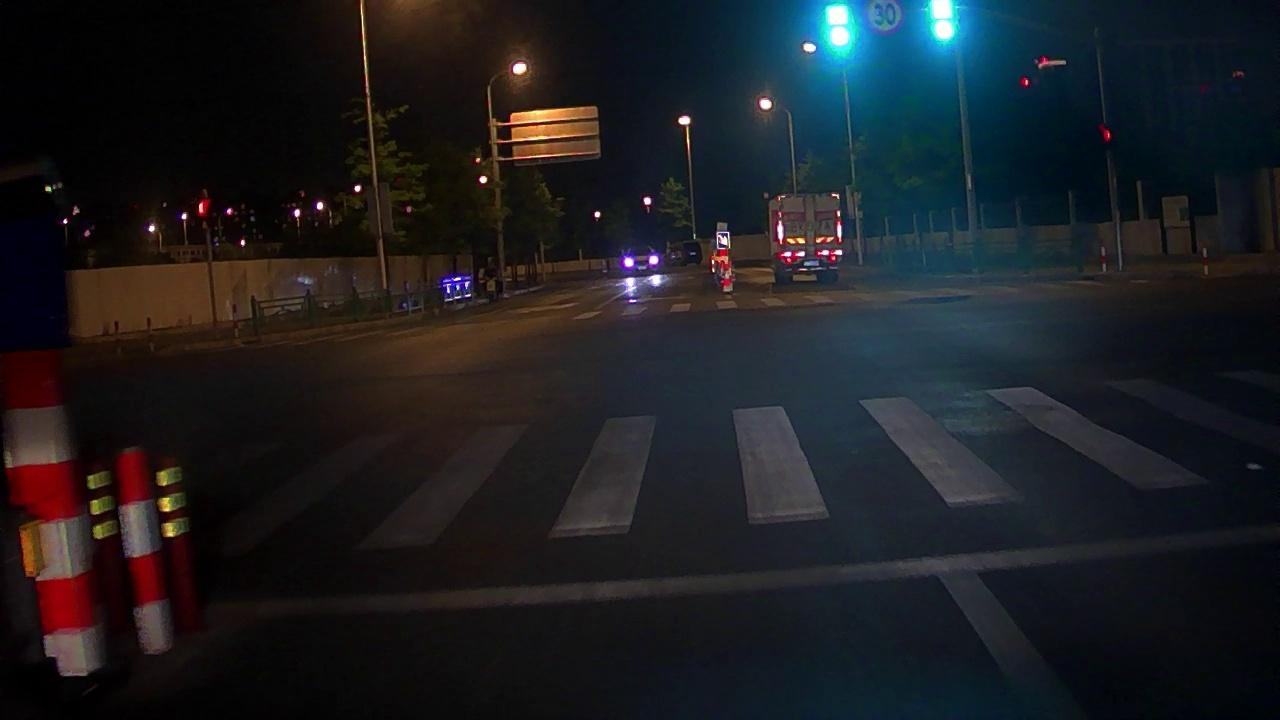traffic_light: (822, 1, 859, 56), (928, 1, 964, 49)
